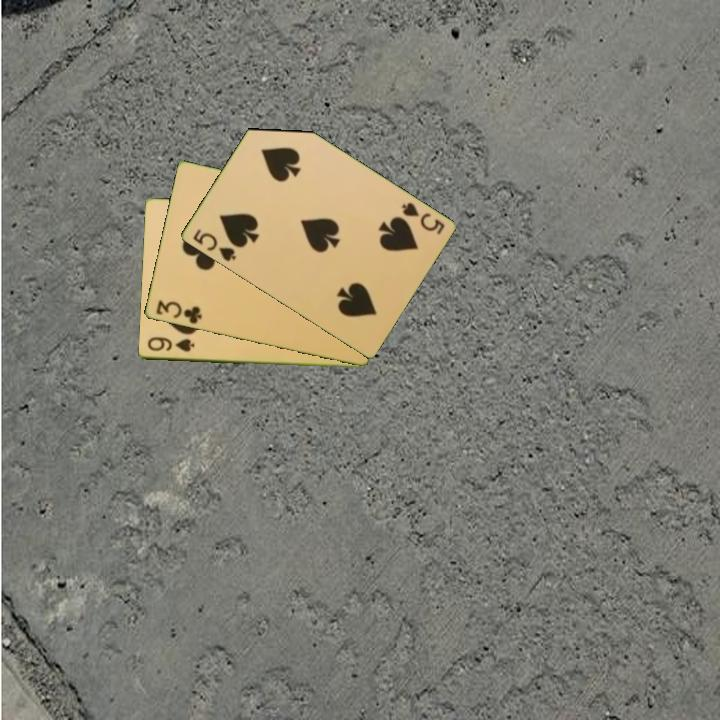3c: (152, 297, 205, 327)
5s: (189, 225, 239, 264), (397, 199, 447, 237)
9s: (143, 333, 197, 355)
